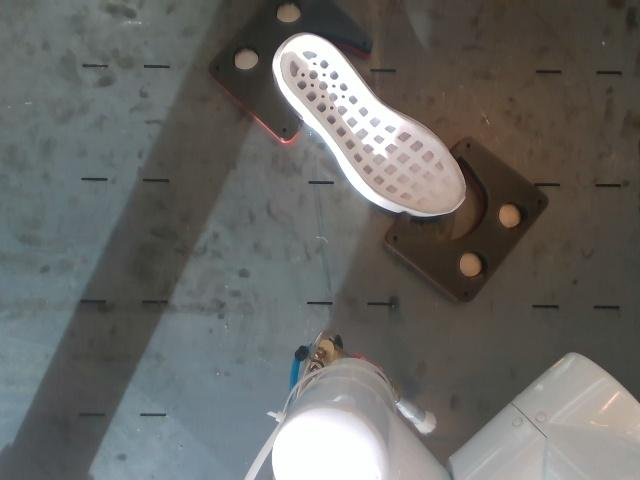shoes: (280, 35, 466, 214)
